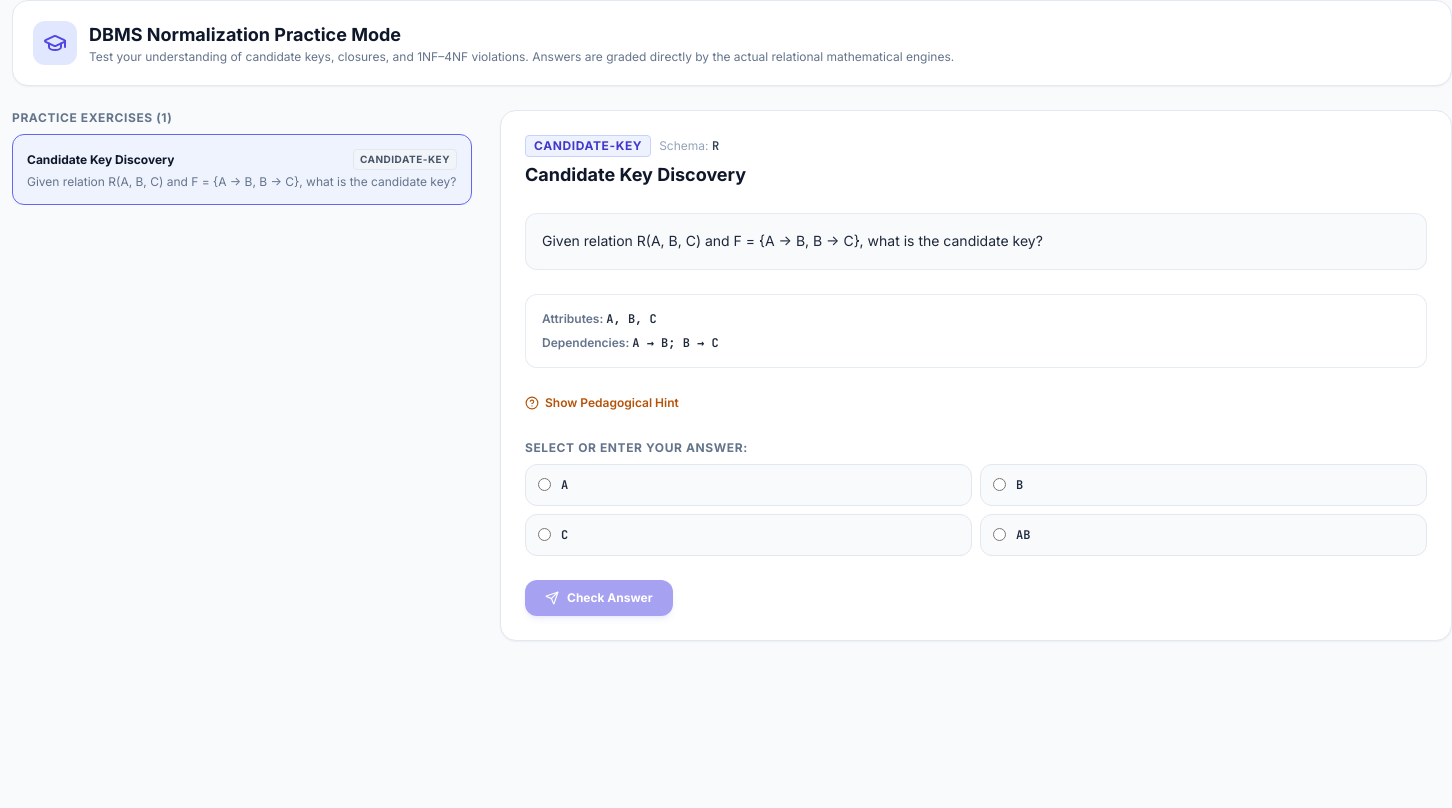
it: Phase 9 Feature Components › PracticeMode › loads and displays practice exercises and handles submission
expect the text "Candidate Key Discovery" is shown: met, box left=27, top=152, right=174, bottom=168
expect the text "what is the candidate key?" below "Practice Exercises (" is shown: met, box left=27, top=174, right=456, bottom=189
Note: Show hint
Click the button "Show Pedagogical Hint" at (602, 403), box left=525, top=395, right=679, bottom=411
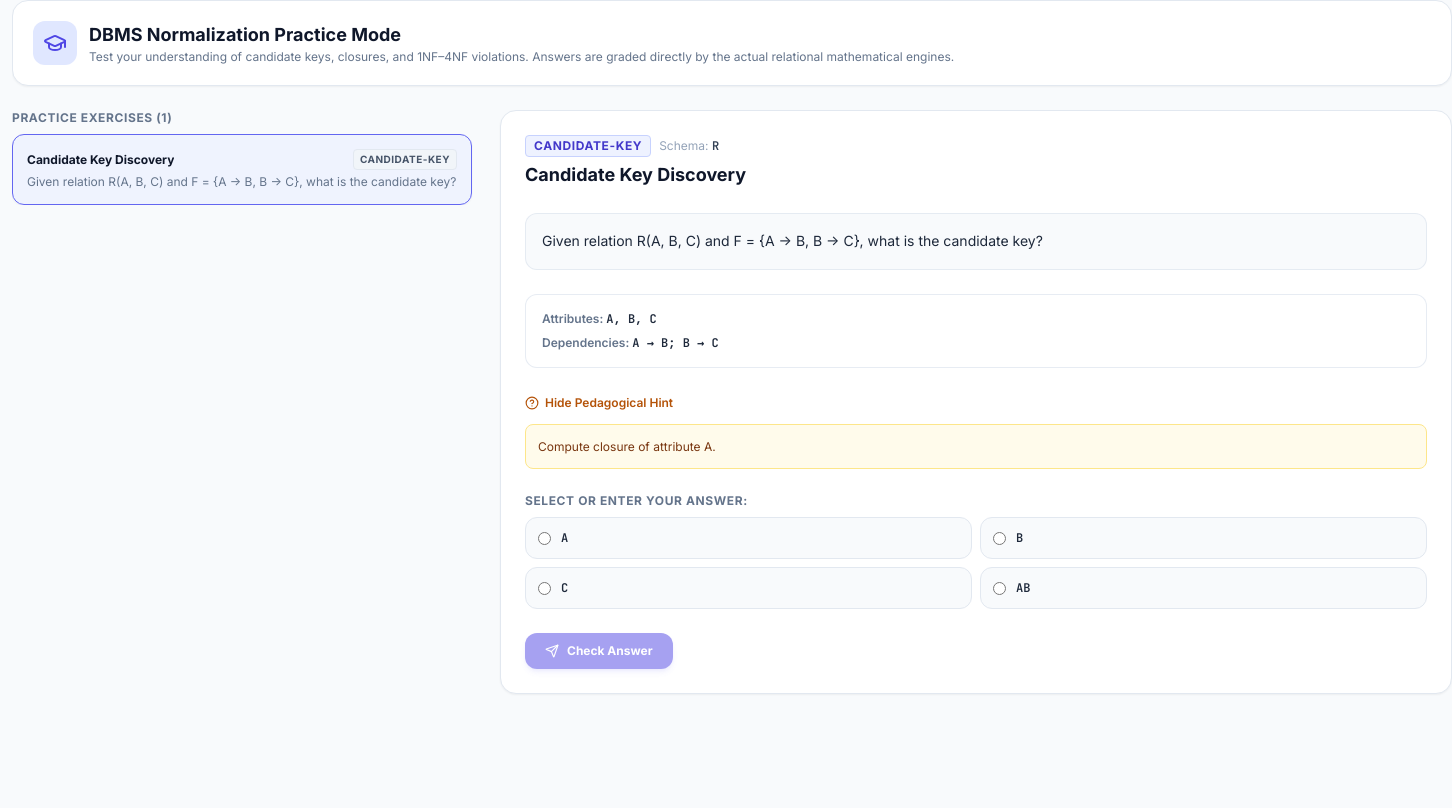
expect the text "Compute closure of attribute A." is shown: met, box left=525, top=424, right=1427, bottom=469
Note: Select option 'A'
Click the radio button showing "A" at (544, 538), box left=538, top=532, right=551, bottom=545
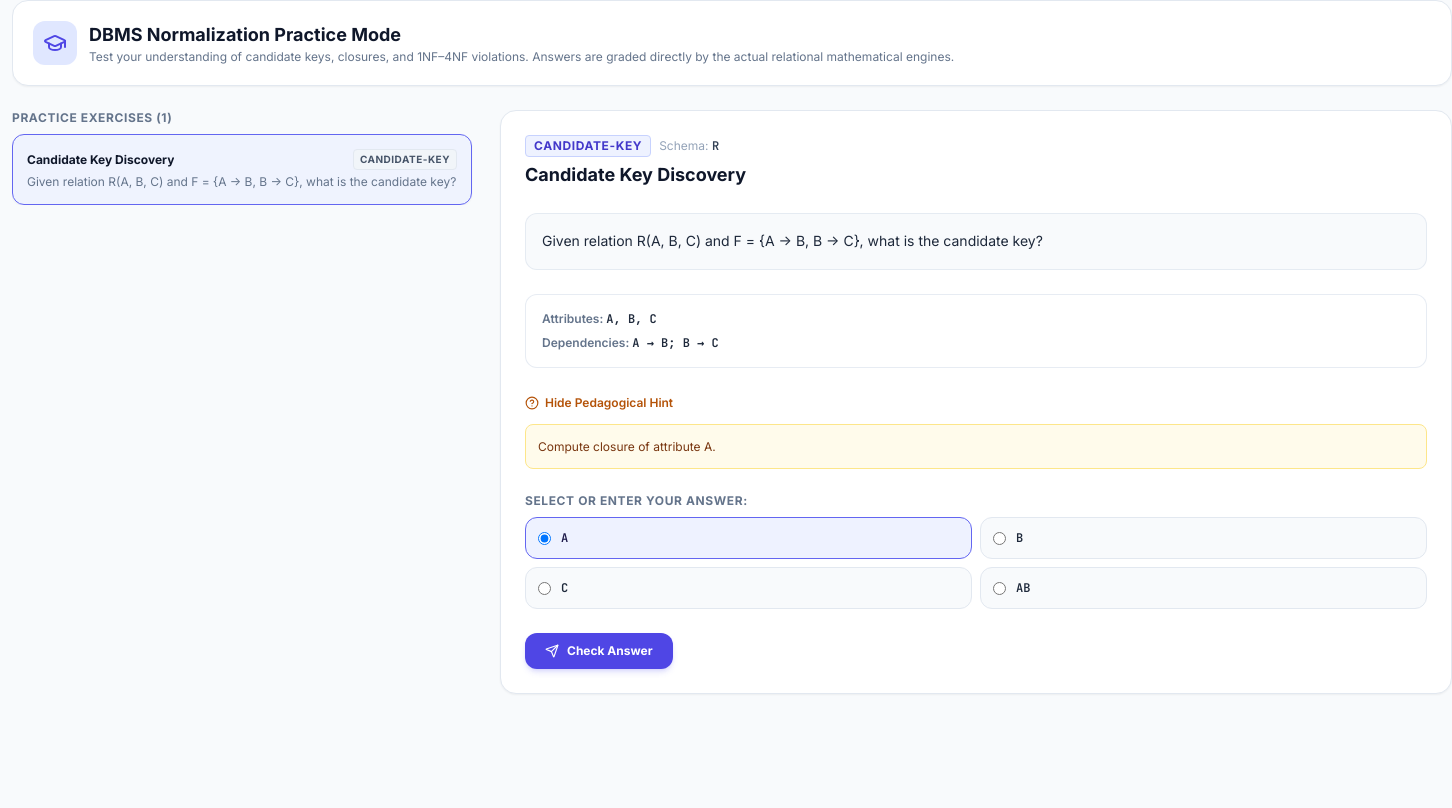
Click the button "Check Answer" at (599, 651), box left=525, top=633, right=673, bottom=669
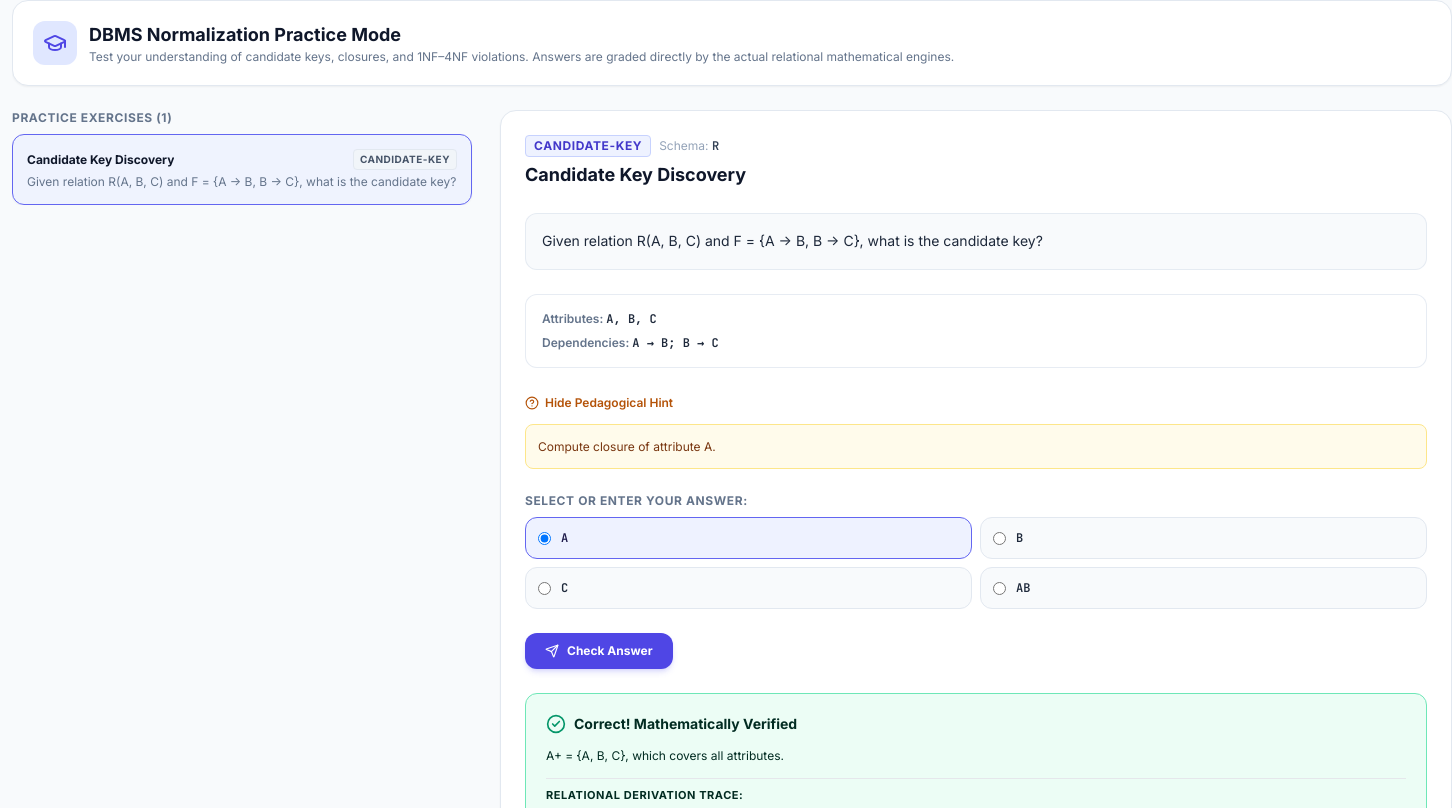
expect the heading "Correct! Mathematically Verified" is shown: met, box left=574, top=714, right=797, bottom=734
expect the text "A+ = {A, B, C}, which covers all attributes." is shown: met, box left=546, top=748, right=784, bottom=763
